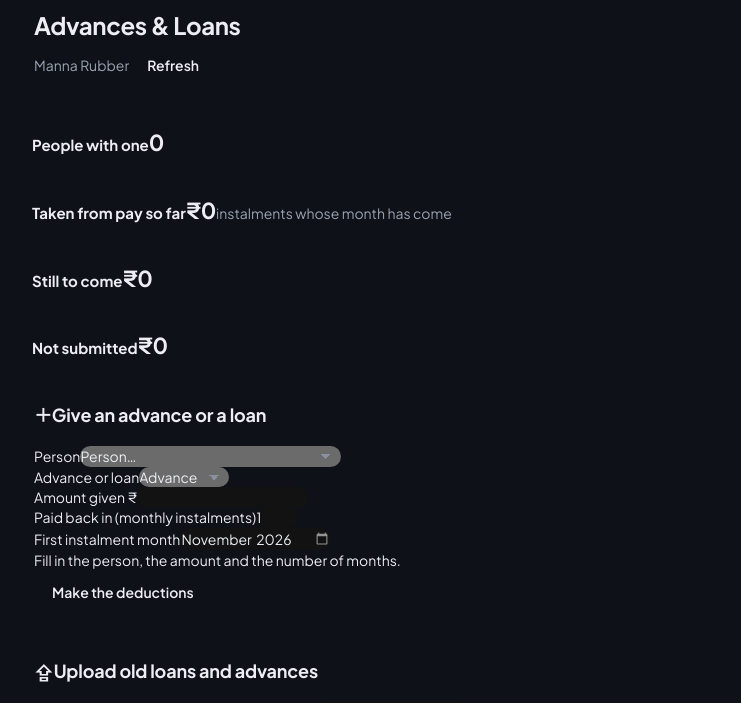
Test: Advances & Loans › refuses an incomplete form and says what is missing
Click the button "Make the deductions".
click(123, 592)  # box [34,570,212,614]
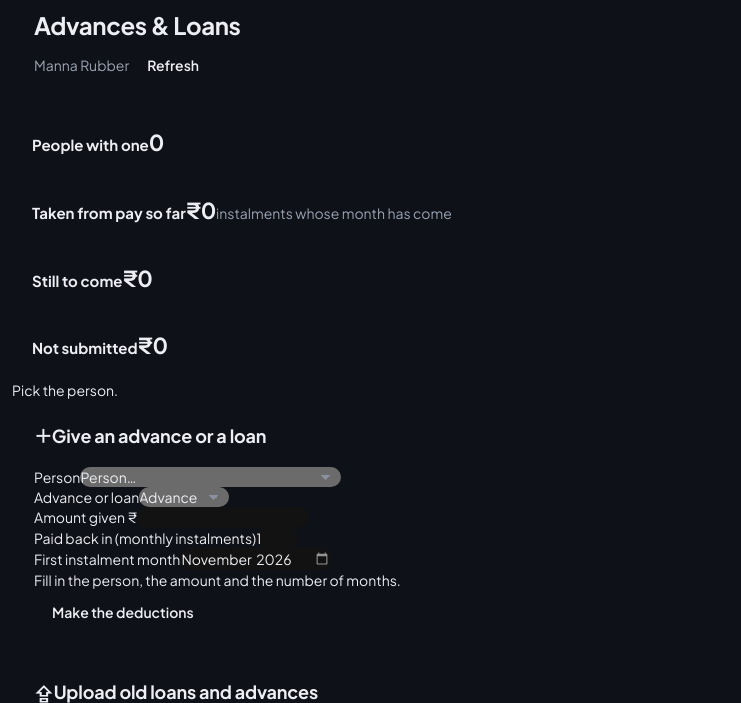
Check: the text "Pick the person." is shown, box [12,381,118,399]
